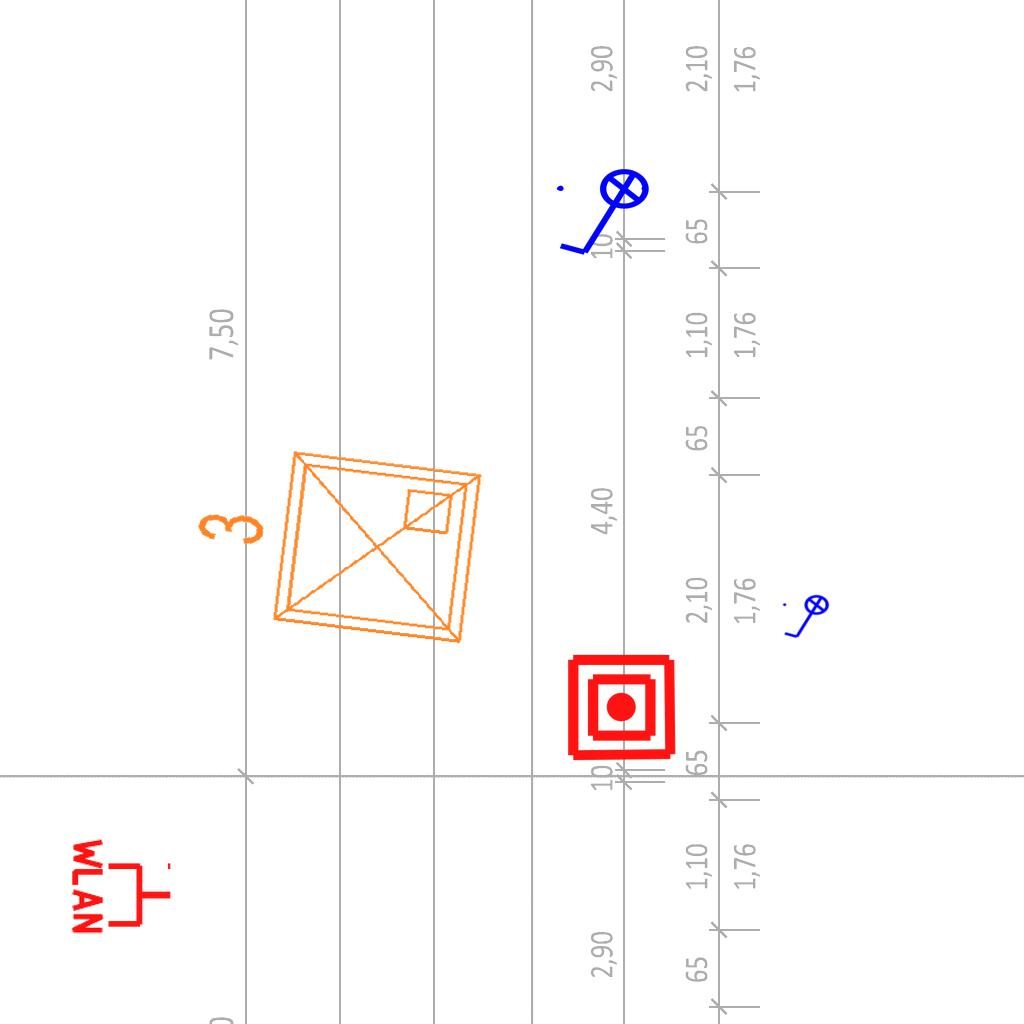Ausschalter_beleuchtet: (551, 167, 663, 263), (780, 594, 836, 642)
Einbaudownlights_LED_Konferenzraeume: (174, 424, 498, 668)
NAM-Nichtautomatischer_Melder: (565, 651, 678, 764)
WLAN: (70, 834, 175, 938)
